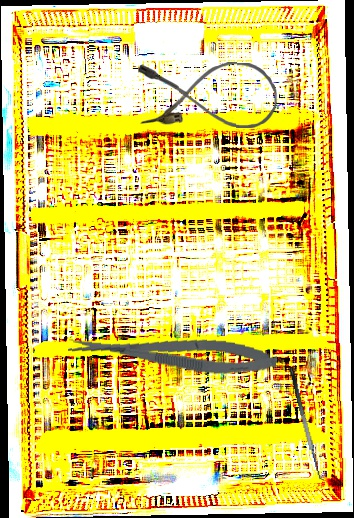Cannula: (137, 60, 279, 129)
Micro Scissor: (66, 323, 279, 381)
Spatula Surgical: (287, 364, 330, 482)
